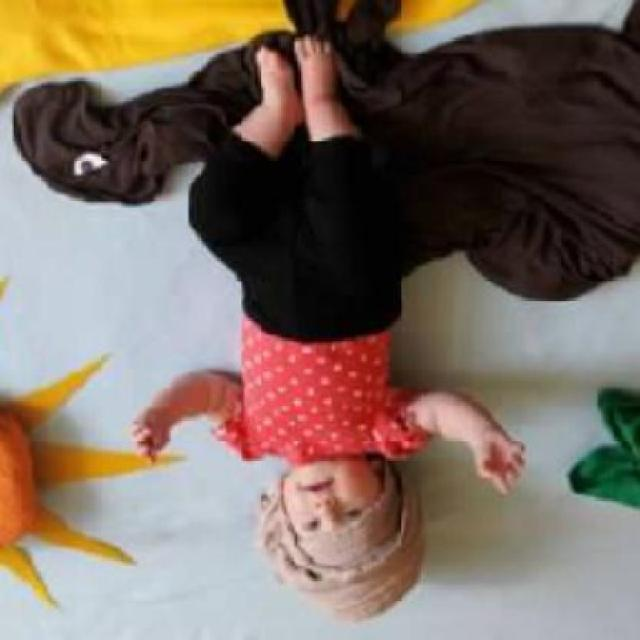baby: (128, 36, 522, 626)
